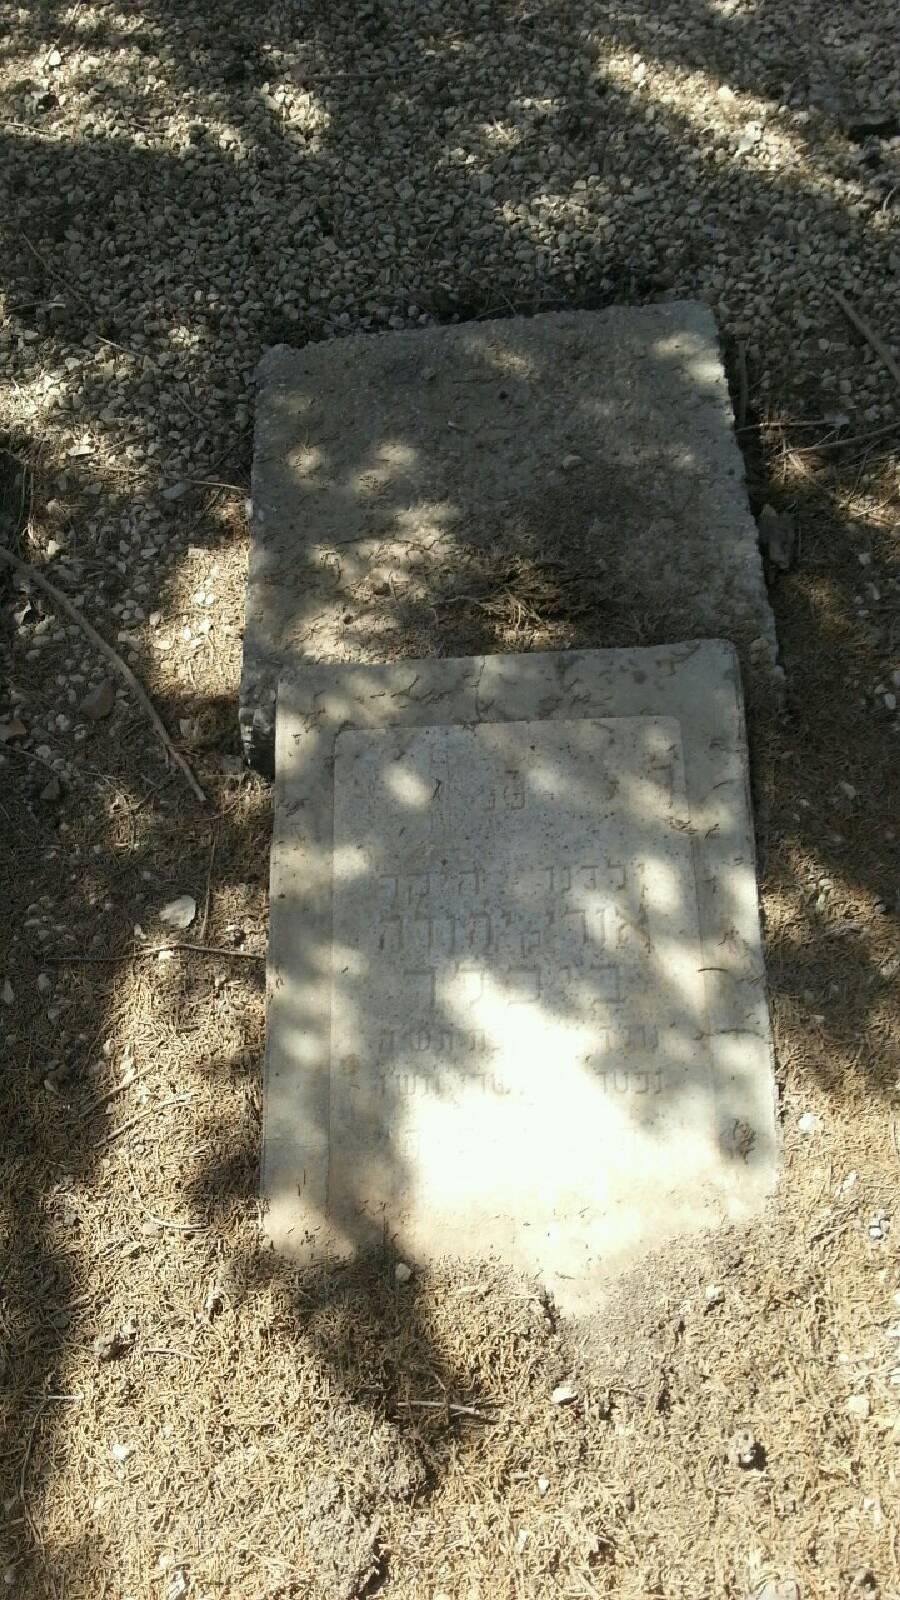flat: (262, 658, 763, 1301)
